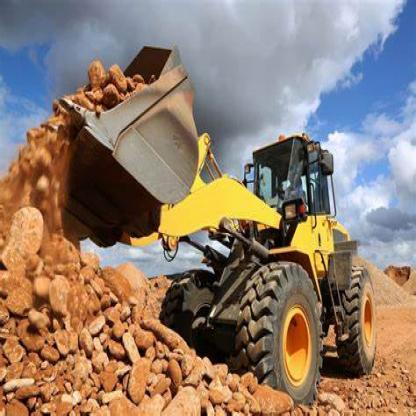bull_dozer/loader/grader: (46, 37, 381, 407)
